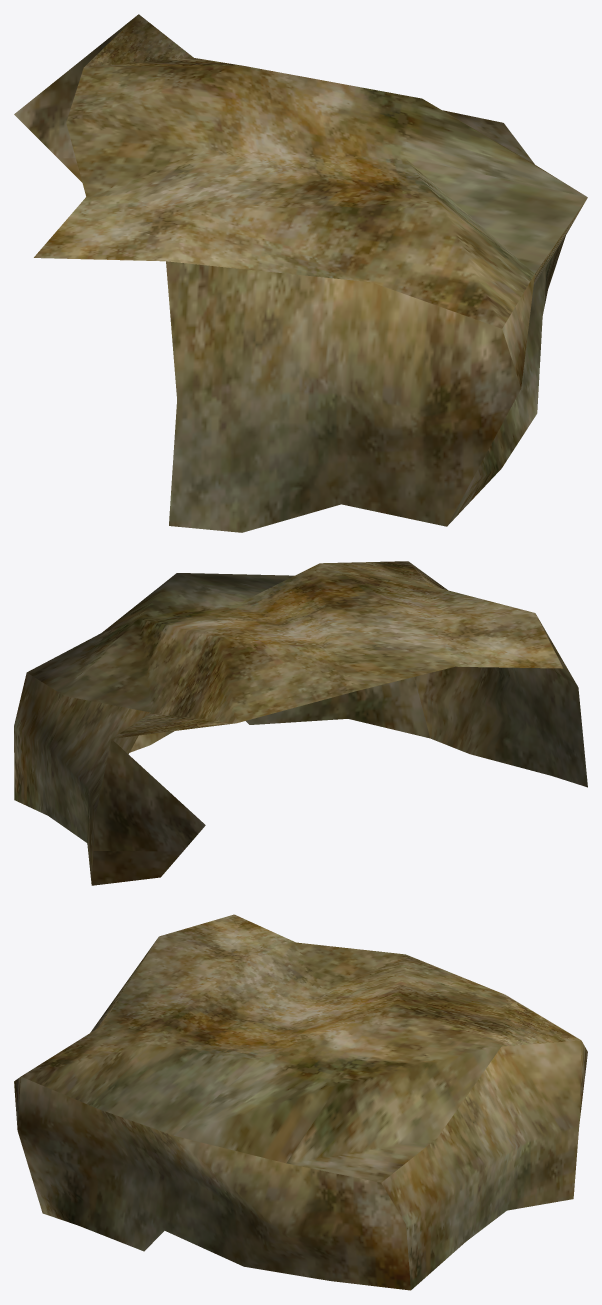
Rendered from TROLLHOLE02_RM_PSURF207.fbx.
3 views of the same model, one above another, from view 1: azimuth 30°, elevation 25°; view 2: azimuth 150°, elevation 25°; view 3: azimuth 270°, elevation 25° (orthographic). The views are drawn at different scales.
Parts seen in each view (by area): view 1: TROLLHOLE02_RM_PSURF207; view 2: TROLLHOLE02_RM_PSURF207; view 3: TROLLHOLE02_RM_PSURF207.
Part boxes in pixels (x1=…): TROLLHOLE02_RM_PSURF207: x1=14, y1=14, x2=587, y2=532; TROLLHOLE02_RM_PSURF207: x1=14, y1=561, x2=587, y2=885; TROLLHOLE02_RM_PSURF207: x1=14, y1=914, x2=587, y2=1290.
Bounding box in the file's own units: 18349 × 8832 × 20966.
Materials: 1 (1 with a texture image).
